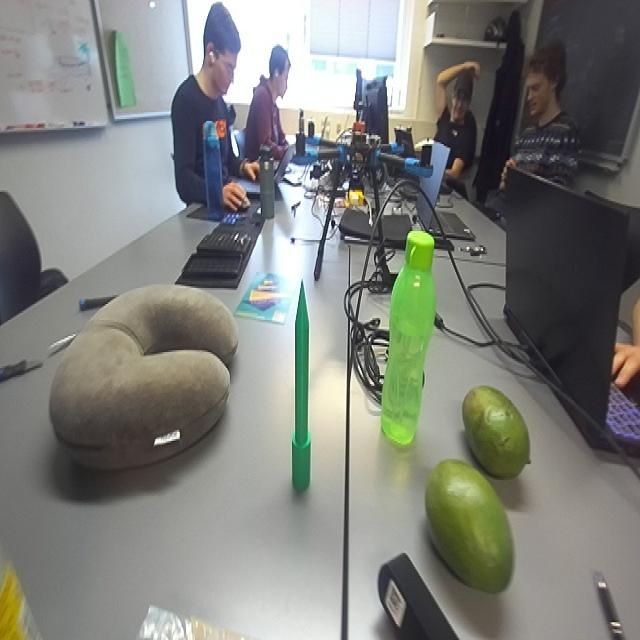probe: (290, 278, 314, 488)
